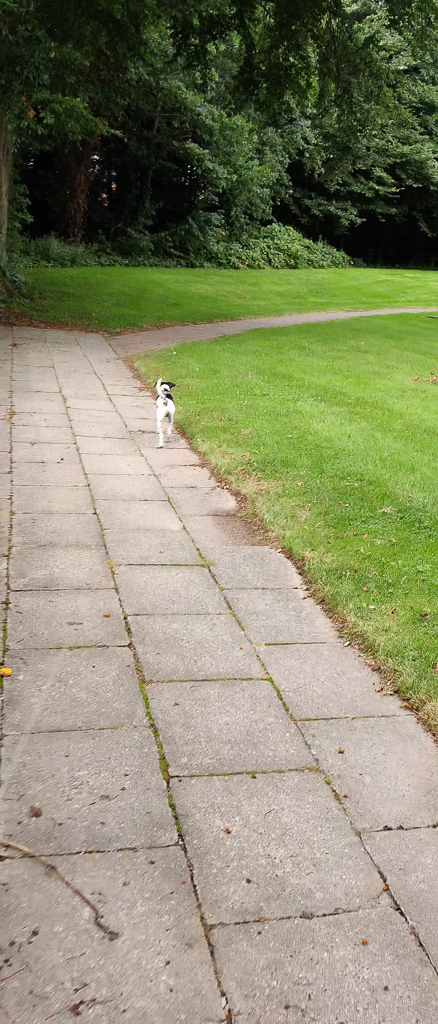Dog: (143, 375, 185, 456)
